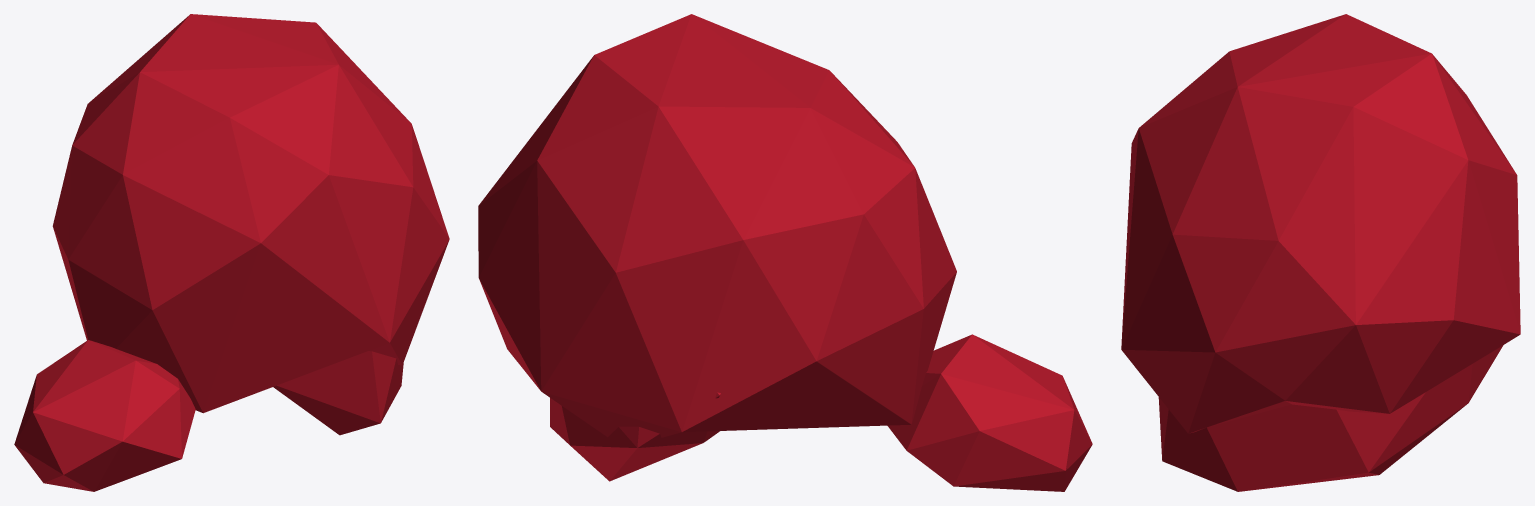
File: tree-dead-leaves-024.glb
3 renders of one model, left to right at view 1: azimuth 30°, elevation 25°; view 2: azimuth 150°, elevation 25°; view 3: azimuth 270°, elevation 25°, orthographic. The views are drawn at different scales.
Visible parts, largest first — view 1: Icosphere.017_464; view 2: Icosphere.017_464; view 3: Icosphere.017_464.
Boxes of the visible parts, box(x1,y1,x2,y2) form: Icosphere.017_464: box(14, 14, 449, 491); Icosphere.017_464: box(478, 14, 1092, 491); Icosphere.017_464: box(1121, 14, 1520, 491).
Bounding box in the file's own units: 1.35 × 1.05 × 0.9464.
